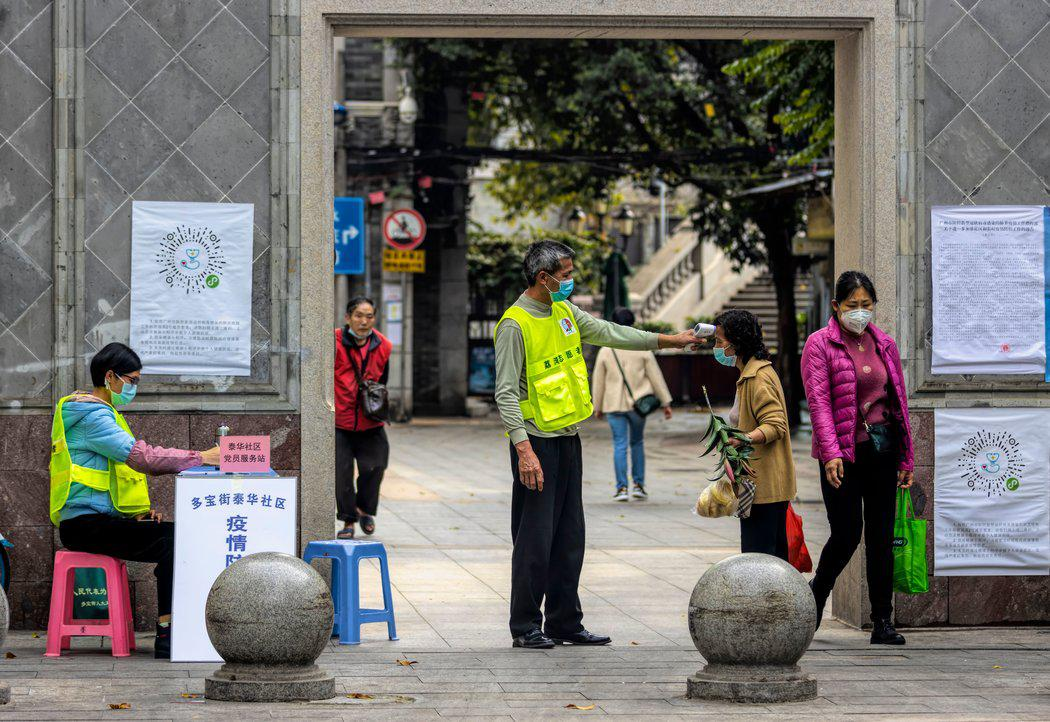mask: (840, 296, 873, 333), (549, 265, 575, 303), (710, 331, 737, 367), (114, 373, 137, 407)
poor: (351, 309, 374, 336)
